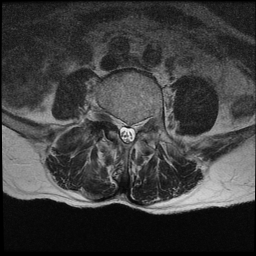CCS_normal: (124, 117, 130, 148)
LFS_normal: (137, 111, 145, 135)
LLS_normal: (131, 117, 137, 147)
RFS_normal: (109, 107, 117, 130)
RLS_normal: (117, 112, 124, 145)
